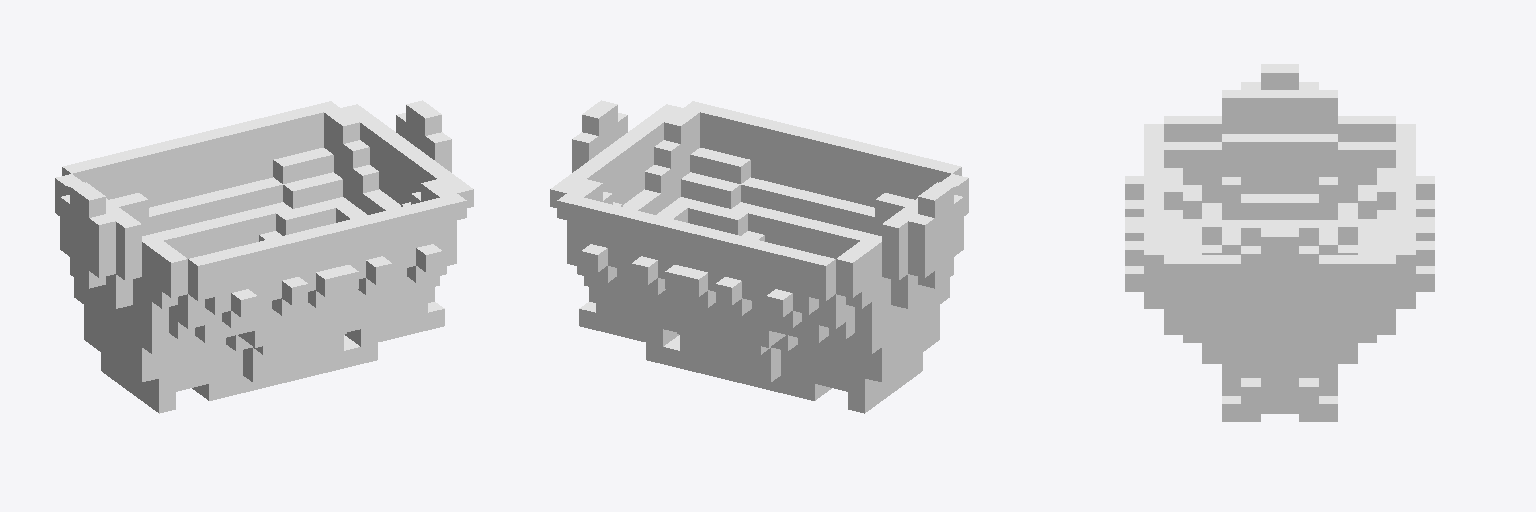
Rendered from lvl2-27.obj.
The picture shows the model from 3 angles: view 1: azimuth 30°, elevation 25°; view 2: azimuth 150°, elevation 25°; view 3: azimuth 270°, elevation 25°; orthographic projection.
Parts seen in each view (by area): view 1: object 1; view 2: object 1; view 3: object 1.
Boxes of the visible parts, x1,y1,x2,y2 form: object 1: [55, 100, 473, 413]; object 1: [550, 100, 968, 413]; object 1: [1125, 64, 1434, 421].
Size of the model in its own units: 2.1 by 1.2 by 1.6.